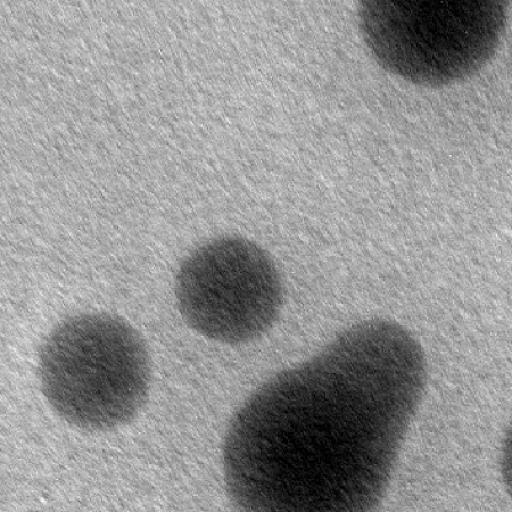Nanoparticles: (221, 373, 397, 512), (357, 0, 510, 90), (42, 317, 152, 430), (334, 309, 438, 418), (173, 237, 279, 338), (499, 424, 512, 492)
